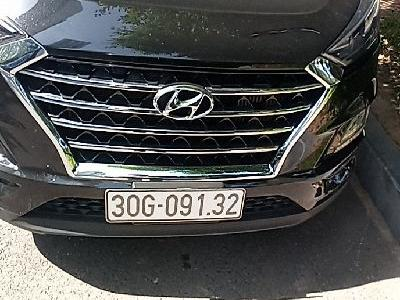car: (104, 185, 246, 225)
